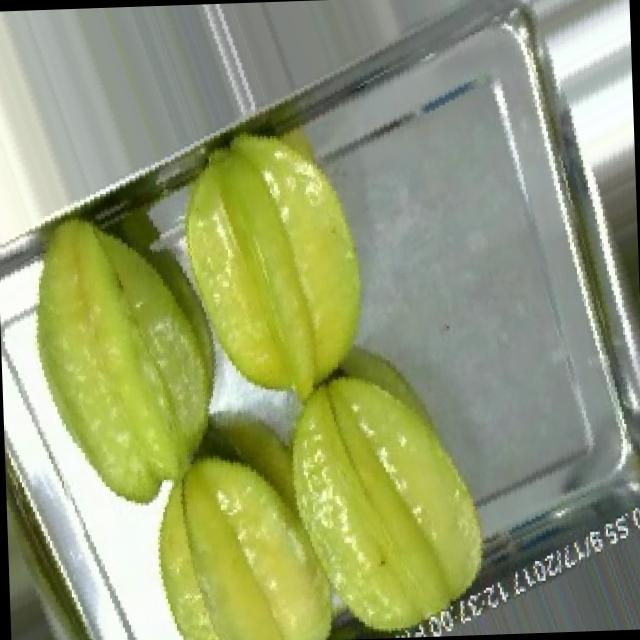fruit: (109, 338, 533, 640), (0, 180, 279, 539), (137, 96, 416, 425)
